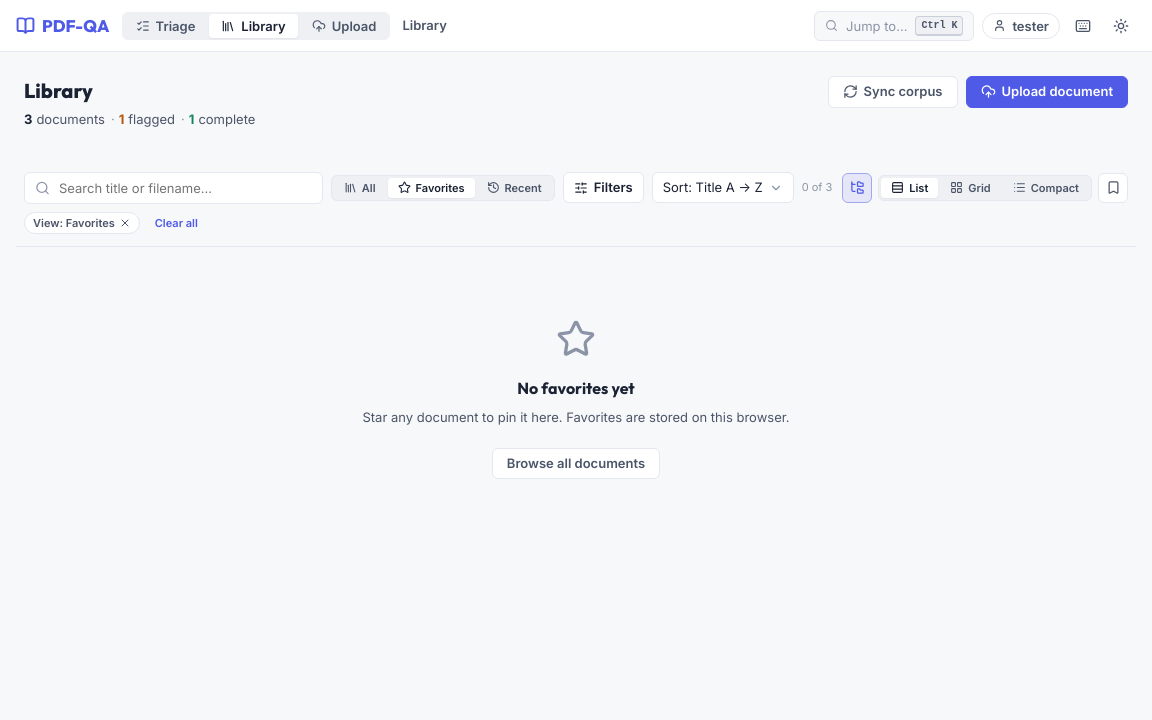
Test: Library page › shows an actionable empty state for an empty Favorites view
Expected: the heading "No favorites yet" is shown, [517,376,635,400]
Click the button "Browse all documents" at (576, 463), box [492,448,660,479]
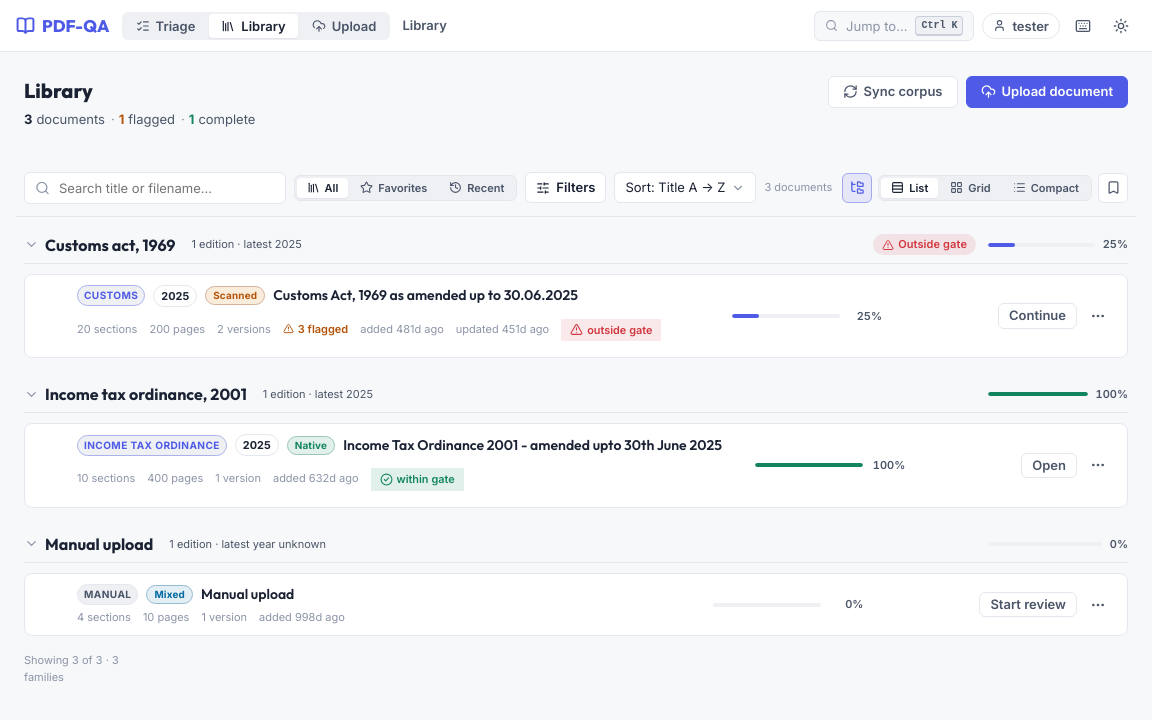
Expected: the text "3 documents" is shown, [764,179,832,196]
